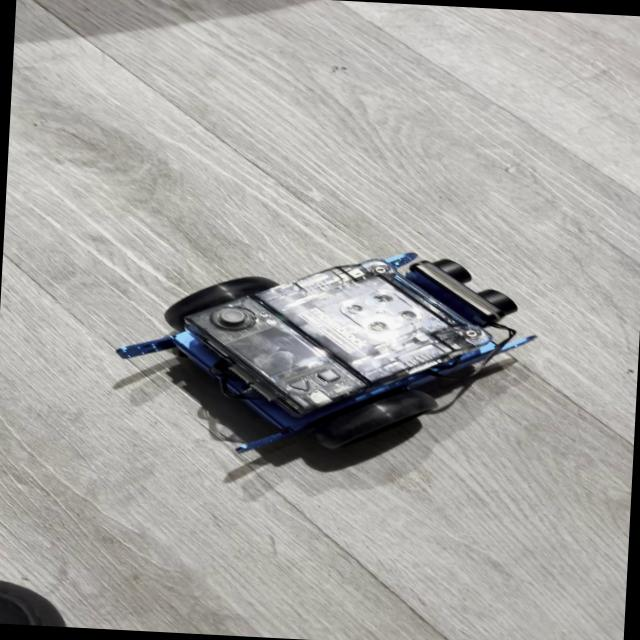mbot-detection: (98, 225, 567, 478)
